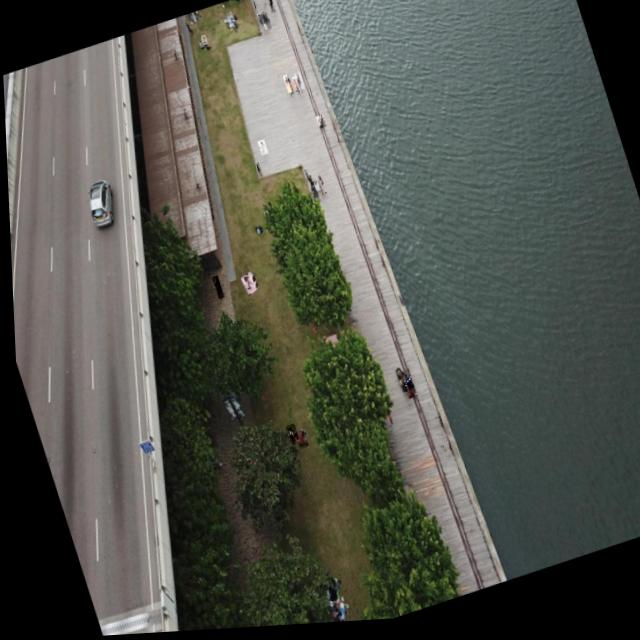Person: (396, 373, 413, 403), (286, 431, 305, 453), (282, 426, 296, 447), (209, 277, 221, 301), (311, 182, 324, 203), (259, 12, 271, 33), (293, 76, 304, 94), (255, 142, 267, 158), (256, 15, 266, 34), (265, 0, 276, 17), (239, 277, 252, 291), (184, 20, 194, 37), (282, 78, 291, 96), (316, 178, 324, 198), (253, 164, 261, 181), (291, 79, 299, 96), (224, 21, 237, 31), (381, 414, 389, 430), (285, 81, 292, 97), (315, 118, 324, 130), (226, 13, 234, 25), (200, 36, 207, 48), (197, 41, 204, 51), (260, 0, 265, 8)
